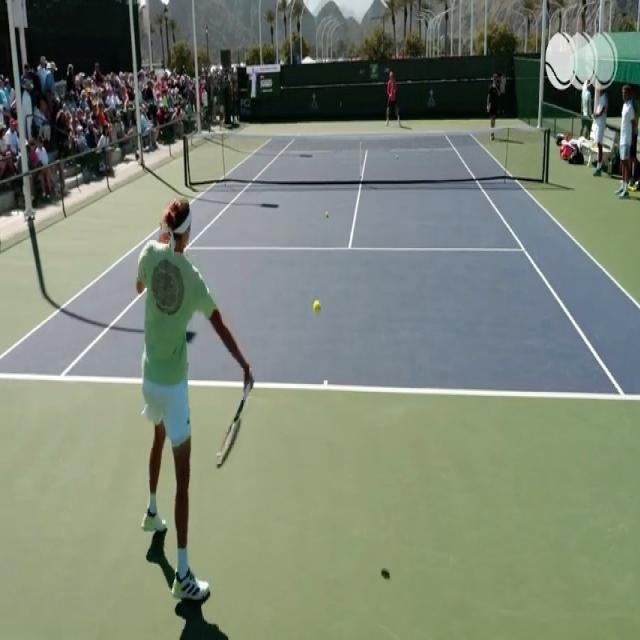forehand-stroke: (136, 200, 252, 613)
